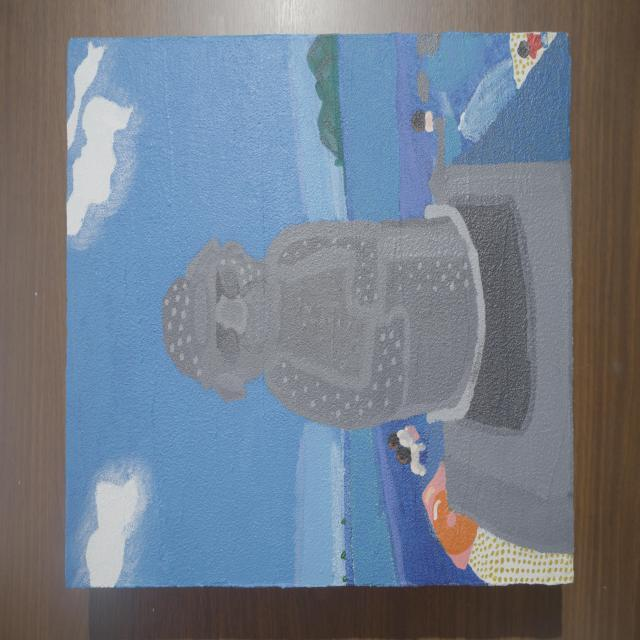painting: (66, 31, 573, 587)
